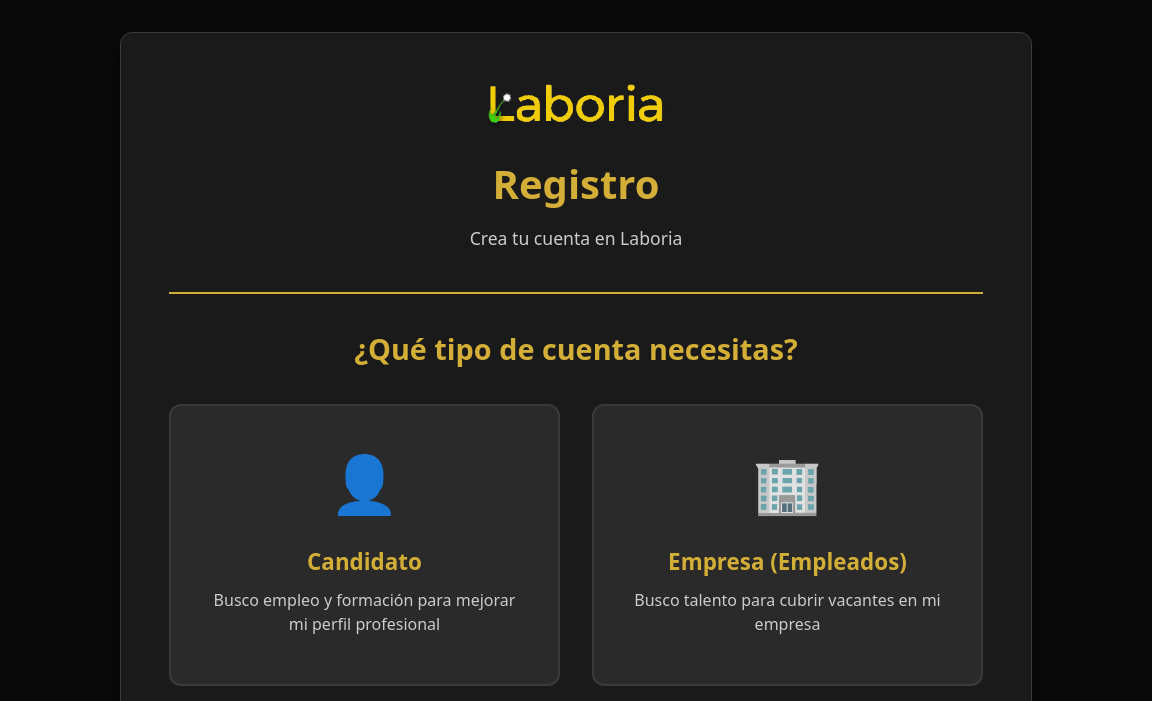
Test: RegisterPage › permite seleccionar un rol
Step 1. Click the heading "Candidato" → (364, 561), box [307, 546, 422, 577]
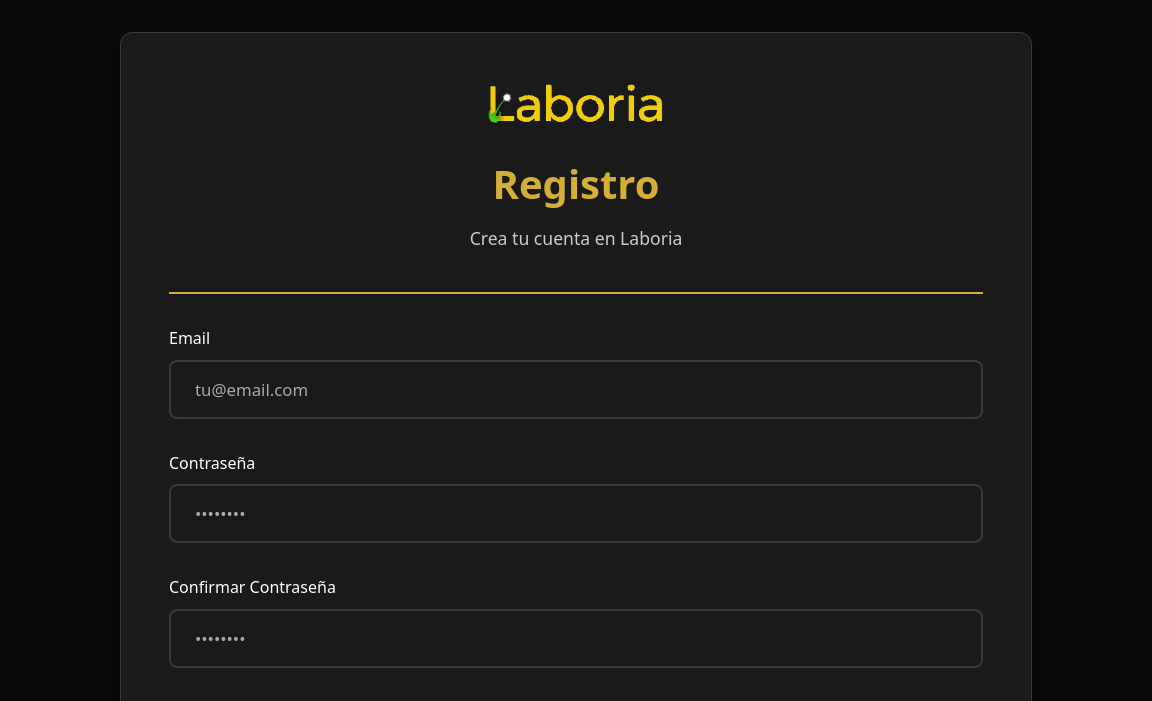
expect the field labelled "Email" is shown: met, box [169, 360, 983, 419]
expect the password field labelled "Contraseña" is shown: met, box [169, 484, 983, 543]
